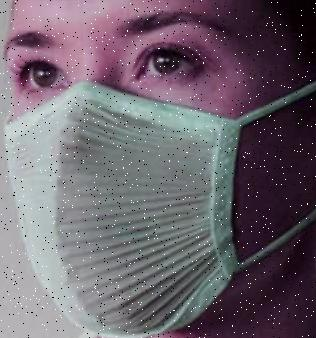with_mask: (1, 2, 316, 338)
